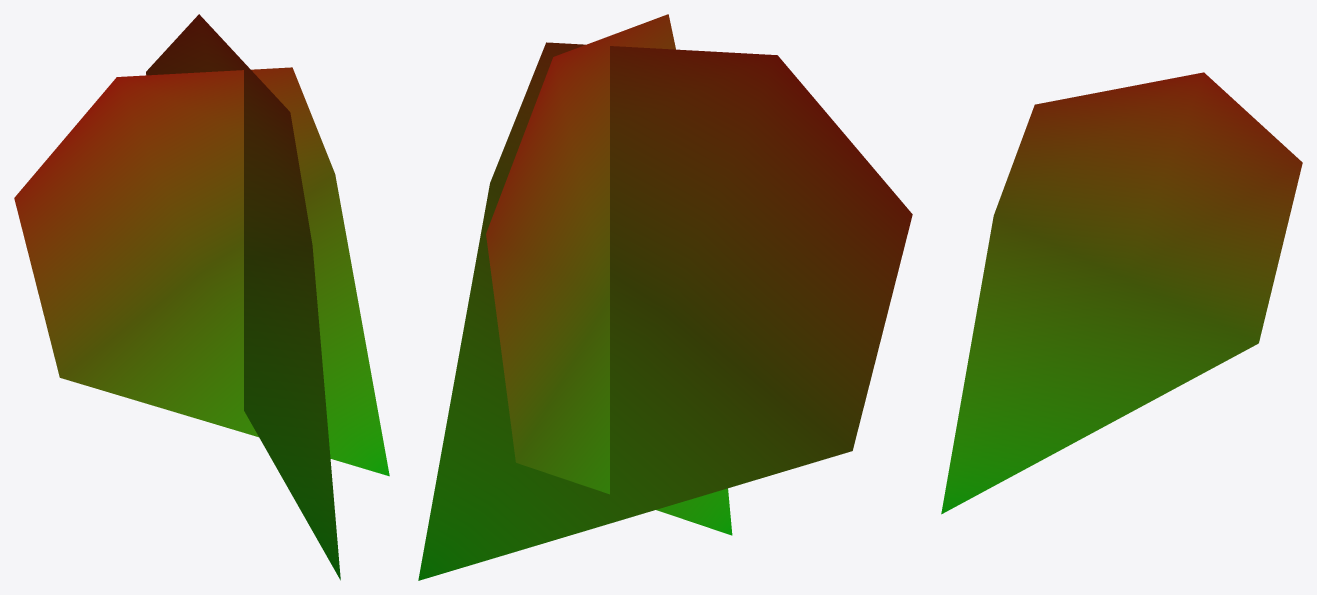
The model's file is Downy Willow_LOD6_Var13_wknlfiuqx.fbx.
3 renders of one model, left to right at view 1: azimuth 30°, elevation 25°; view 2: azimuth 150°, elevation 25°; view 3: azimuth 270°, elevation 25°, orthographic. The views are drawn at different scales.
Parts seen in each view (by area): view 1: _14db_Var13_LOD6; view 2: _14db_Var13_LOD6; view 3: _14db_Var13_LOD6.
Part boxes in pixels (<box>): _14db_Var13_LOD6: <box>14,14,389,580</box>; _14db_Var13_LOD6: <box>418,14,912,580</box>; _14db_Var13_LOD6: <box>941,72,1302,514</box>.
Size of the model in its own units: 27.64 by 32.77 by 24.36.
